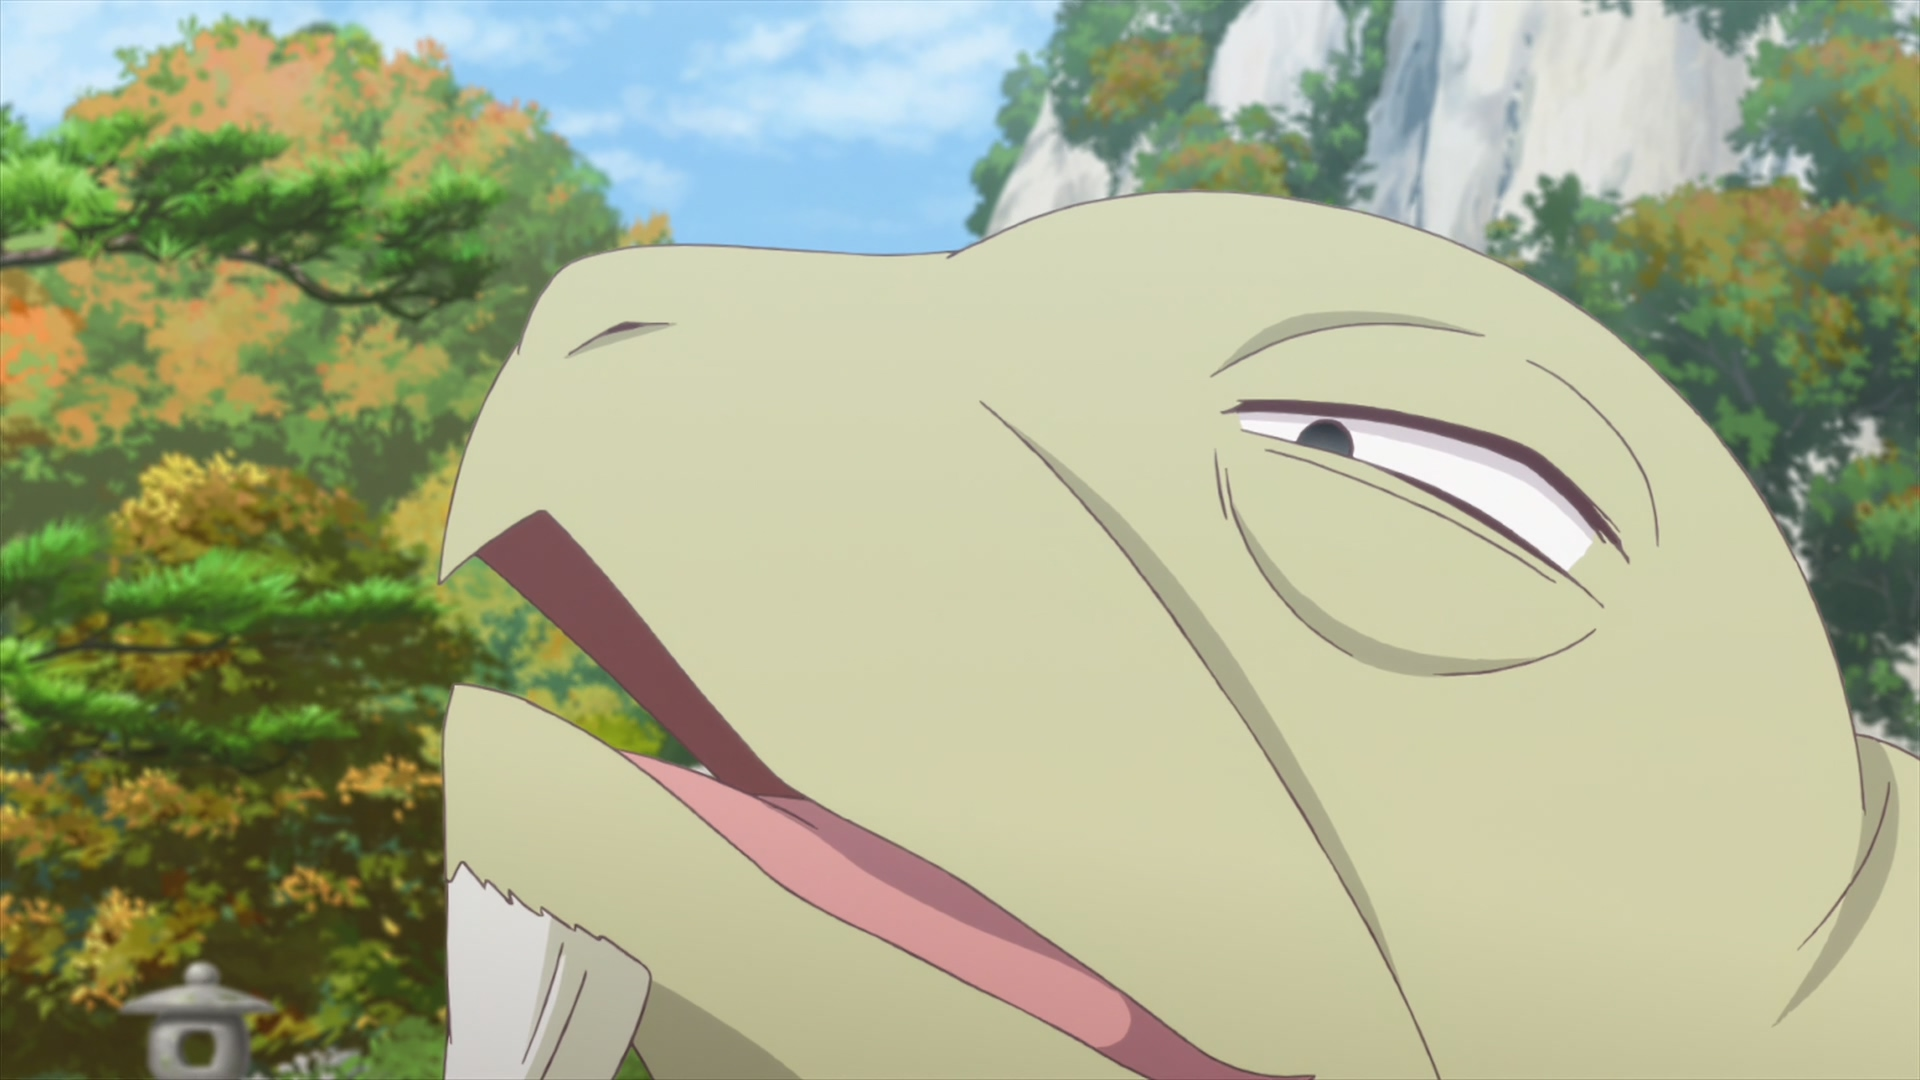其他: (440, 191, 1920, 1080)
